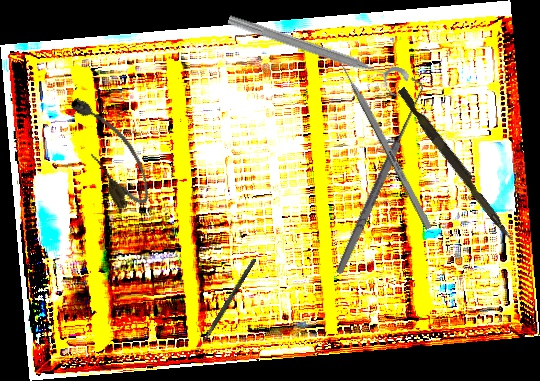Cannula: (62, 85, 159, 216)
Fixation Ring: (222, 10, 411, 100)
Hook Surgical: (325, 75, 432, 278), (193, 257, 257, 358)
Pusher: (393, 86, 520, 243), (331, 47, 433, 231)
